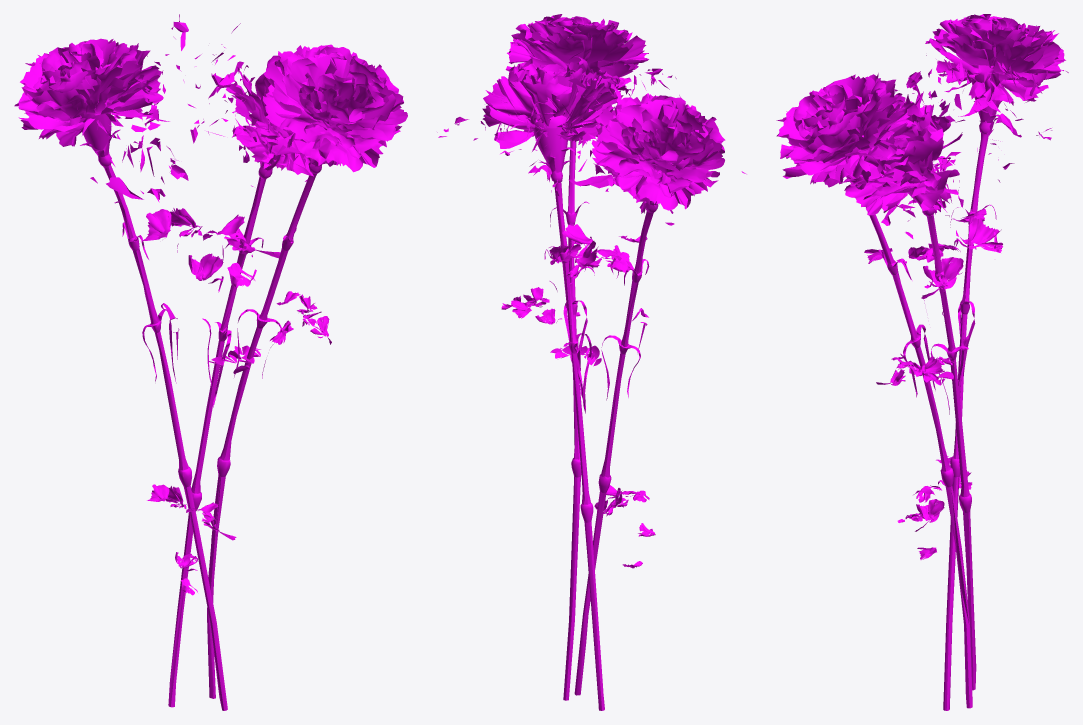
File: Claveles_MarianaJU - Mariana JU.glb
The picture shows the model from 3 angles, left to right: view 1: azimuth 30°, elevation 25°; view 2: azimuth 150°, elevation 25°; view 3: azimuth 270°, elevation 25°; orthographic projection. The views are drawn at different scales.
Visible parts, largest first — view 1: 00.claveles funciona_modificaciones; view 2: 00.claveles funciona_modificaciones; view 3: 00.claveles funciona_modificaciones.
Part boxes in pixels (bbox=[...]): 00.claveles funciona_modificaciones: bbox=[14, 14, 407, 710]; 00.claveles funciona_modificaciones: bbox=[437, 14, 746, 710]; 00.claveles funciona_modificaciones: bbox=[776, 14, 1068, 710].
Bounding box in the file's own units: 22.29 × 44.48 × 18.25.
